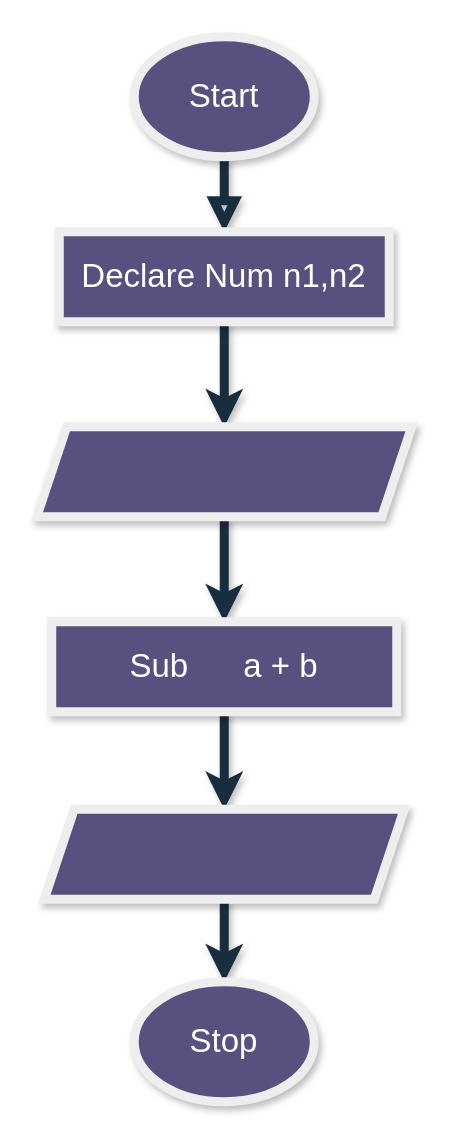
Some shapes in this 450 by 1142 pixel diagram are drawn without their labels. Here are the shapes that lost their labels. From the top down, the centre of each, then its label:
the point at 225,473: Read n1 and n2
the point at 225,856: Display Sum
